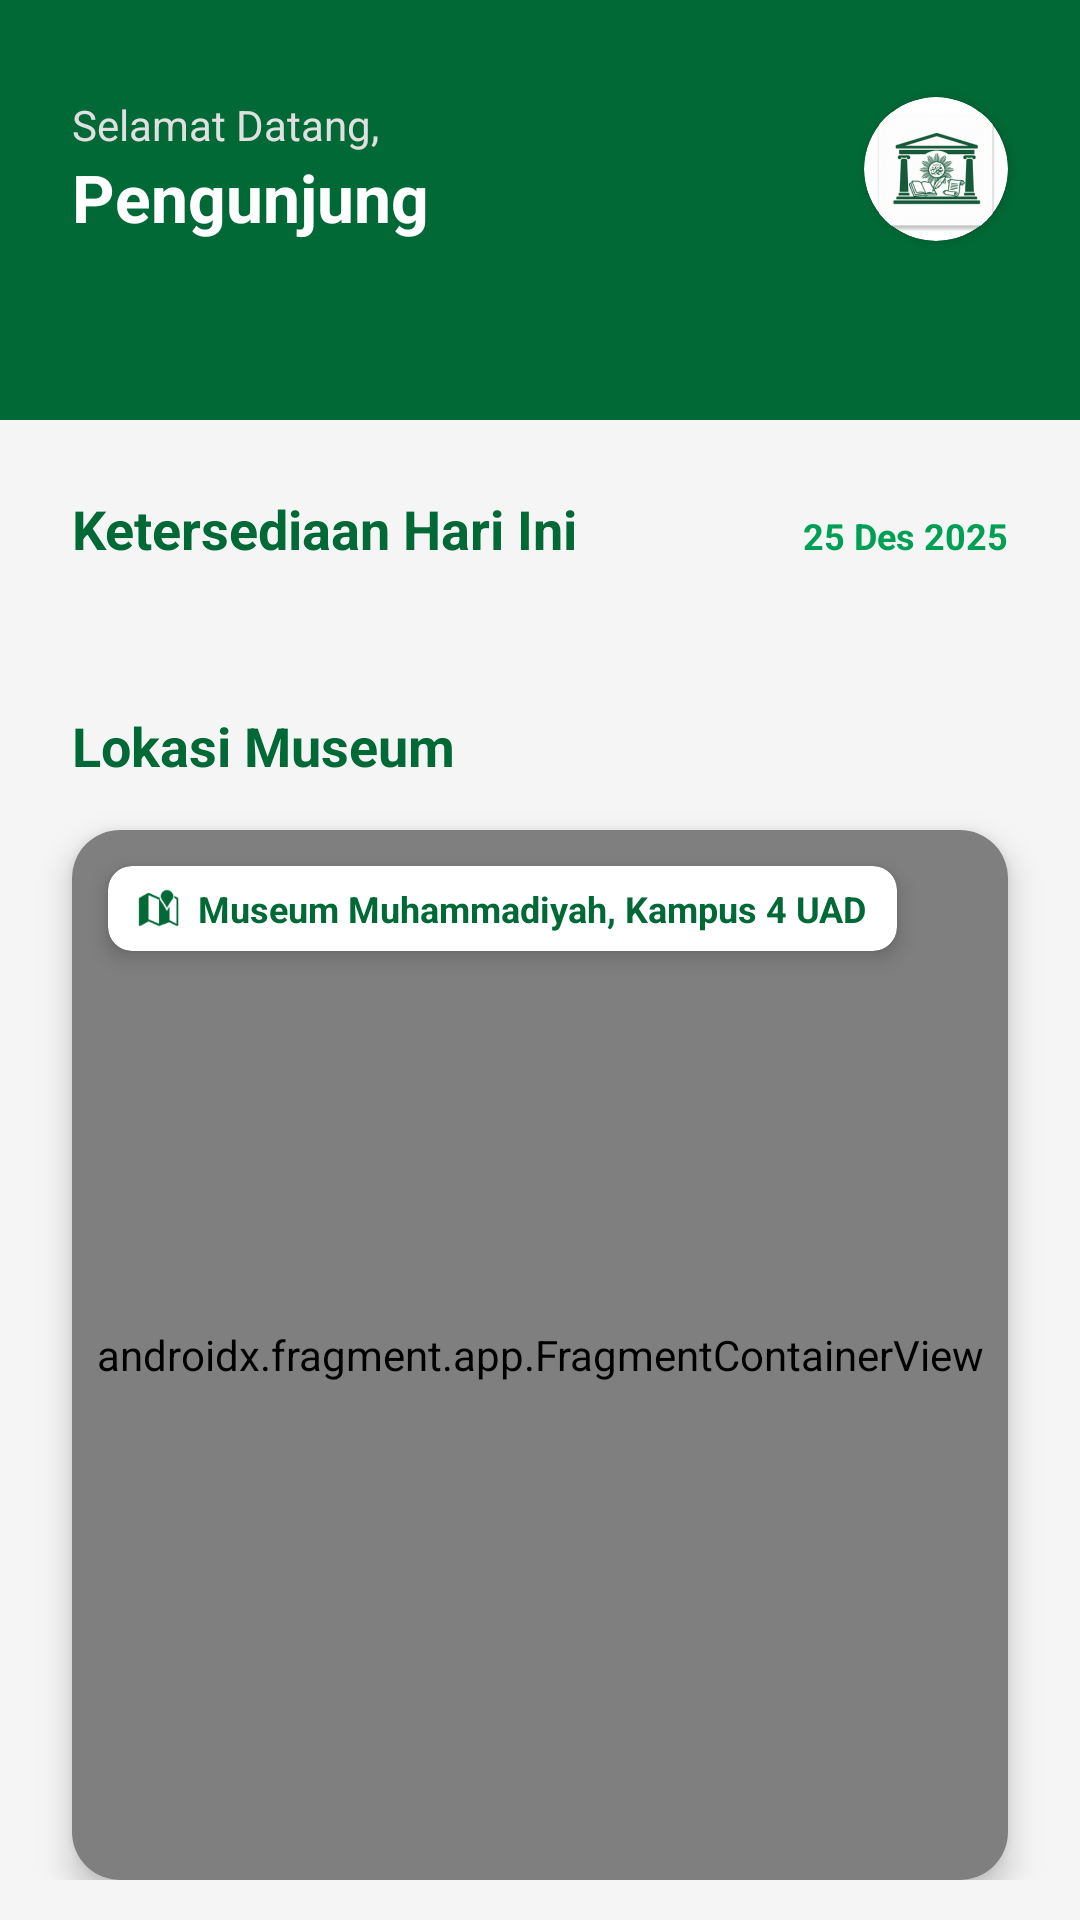

Where to tap for icons on this 1080 x 1920 app screen, as point (x, y):
map: point (158, 908)
